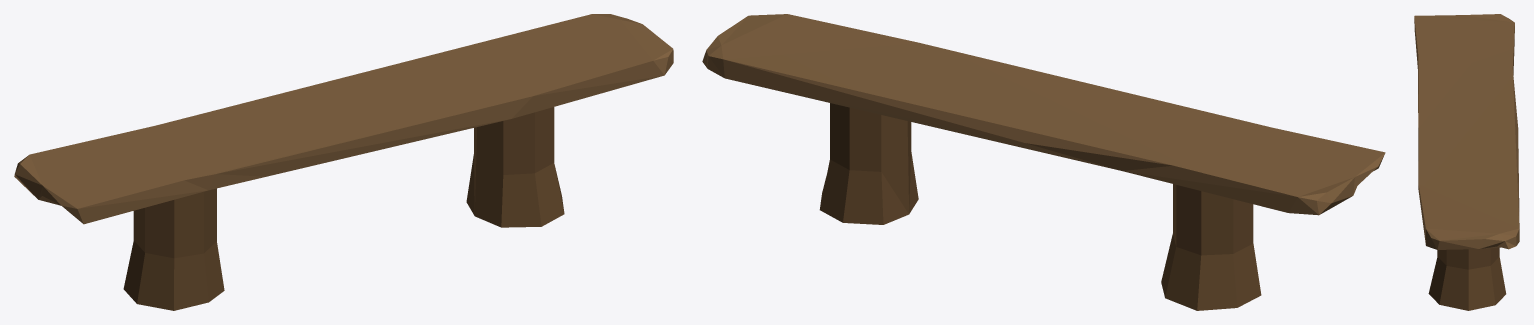
The model's file is Mesh_Props_Bench_01.FBX.
The picture shows the model from 3 angles, left to right: view 1: azimuth 30°, elevation 25°; view 2: azimuth 150°, elevation 25°; view 3: azimuth 270°, elevation 25°; orthographic projection. The views are drawn at different scales.
Parts seen in each view (by area): view 1: Mesh_Props_Bench_01; view 2: Mesh_Props_Bench_01; view 3: Mesh_Props_Bench_01.
Part boxes in pixels (box(x1,y1,x2,y2)): Mesh_Props_Bench_01: box(14, 14, 673, 310); Mesh_Props_Bench_01: box(702, 14, 1385, 310); Mesh_Props_Bench_01: box(1414, 14, 1519, 310).
Size of what is drawn, in the model's own units: 205 by 40.38 by 45.21.
